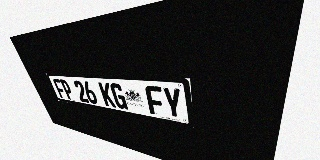2: (73, 80, 89, 103)
6: (81, 81, 99, 104)
F: (144, 85, 166, 116), (52, 79, 67, 99)
G: (109, 83, 128, 110)
K: (98, 82, 116, 108)
P: (59, 79, 75, 100)
Y: (162, 87, 184, 120)
